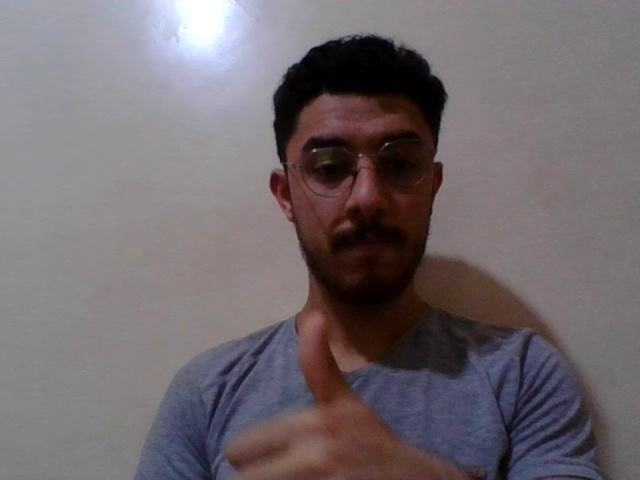Yes: (209, 303, 464, 480)
